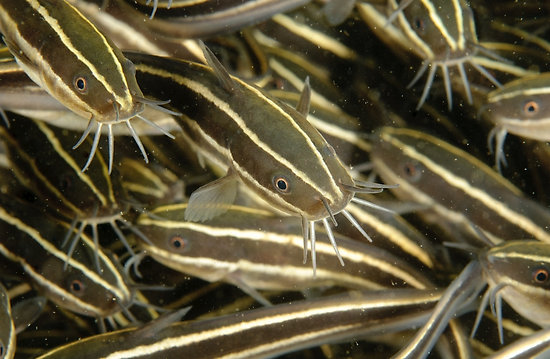gonzui: (152, 51, 397, 241), (7, 1, 155, 161)
